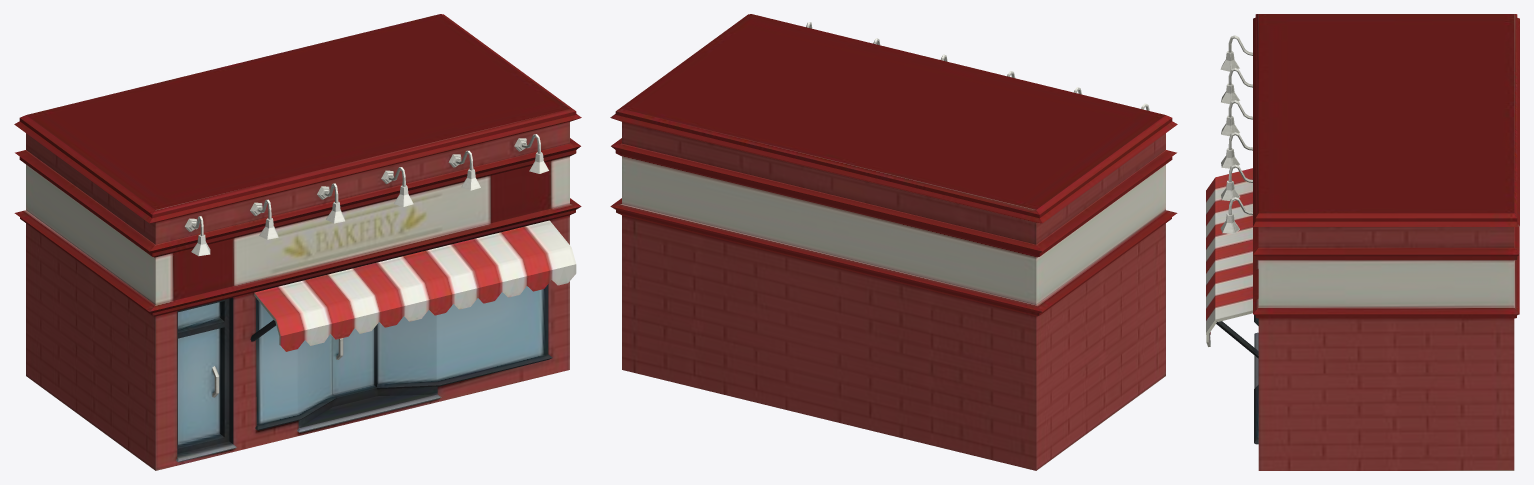
Rendered from firinbinasi.glb.
3 views of the same model, side by side, from view 1: azimuth 30°, elevation 25°; view 2: azimuth 150°, elevation 25°; view 3: azimuth 270°, elevation 25° (orthographic).
Parts seen in each view (by area): view 1: Bakery_mesh; view 2: Bakery_mesh; view 3: Bakery_mesh.
Part boxes in pixels (x1=…): Bakery_mesh: x1=14, y1=14, x2=581, y2=470; Bakery_mesh: x1=610, y1=14, x2=1177, y2=470; Bakery_mesh: x1=1206, y1=14, x2=1519, y2=470.
Bounding box in the file's own units: 19.26 × 11.1 × 12.26.
Materials: 1 (1 with a texture image).
